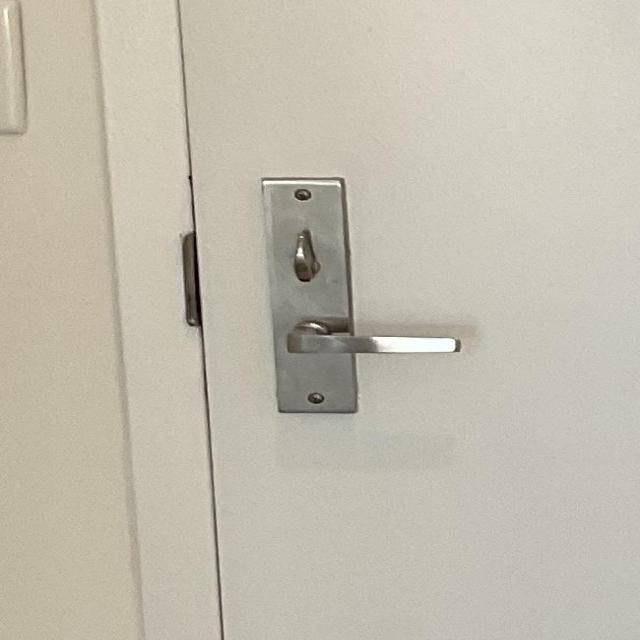door_handle: (265, 312, 471, 371)
